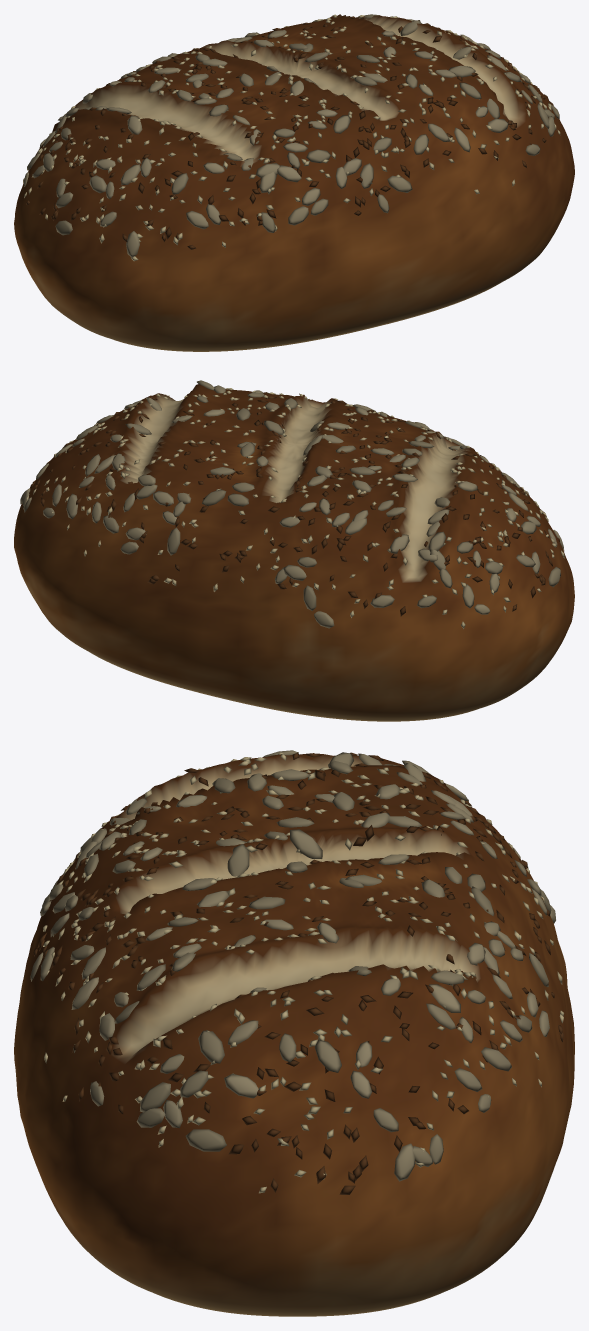
File: kornbrot-500g.glb
3 renders of one model, top to bottom at view 1: azimuth 30°, elevation 25°; view 2: azimuth 150°, elevation 25°; view 3: azimuth 270°, elevation 25°, orthographic. The views are drawn at different scales.
Parts seen in each view (by area): view 1: kornbrot-500g; view 2: kornbrot-500g; view 3: kornbrot-500g.
Boxes of the visible parts, x1,y1,x2,y2 form: kornbrot-500g: (14, 14, 574, 351); kornbrot-500g: (14, 380, 574, 721); kornbrot-500g: (14, 750, 574, 1316).
Bounding box in the file's own units: 0.22 × 0.0867 × 0.14.
